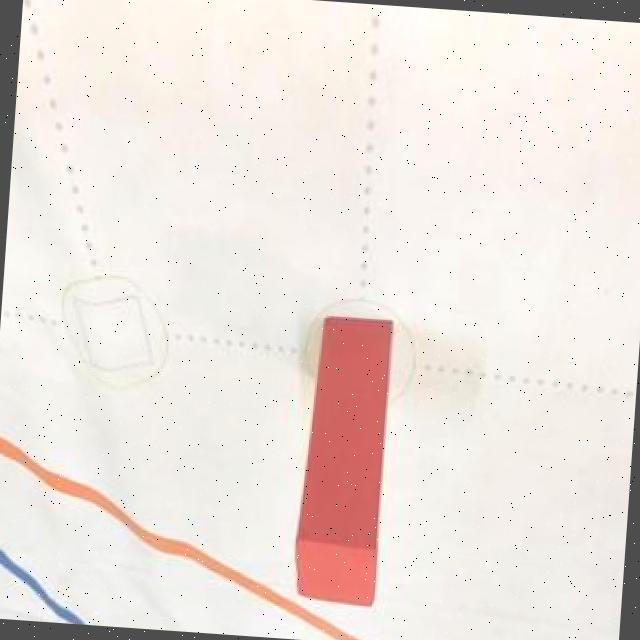redbox: (292, 314, 393, 608)
